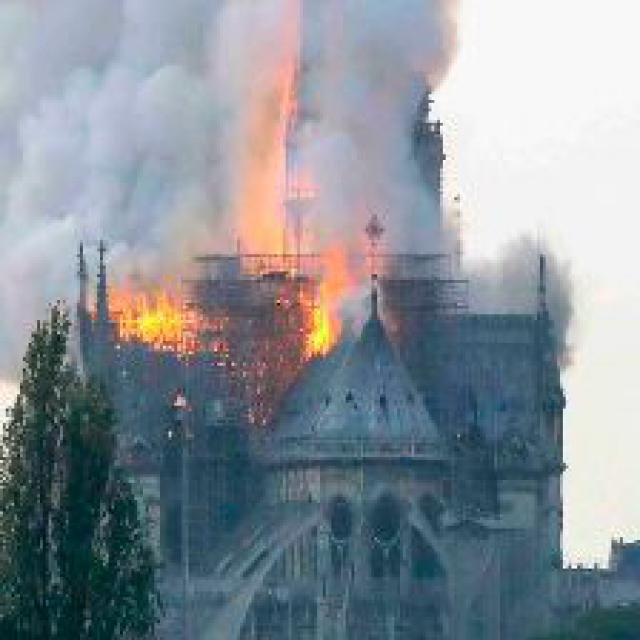fire: (106, 272, 206, 354), (286, 274, 360, 366)
